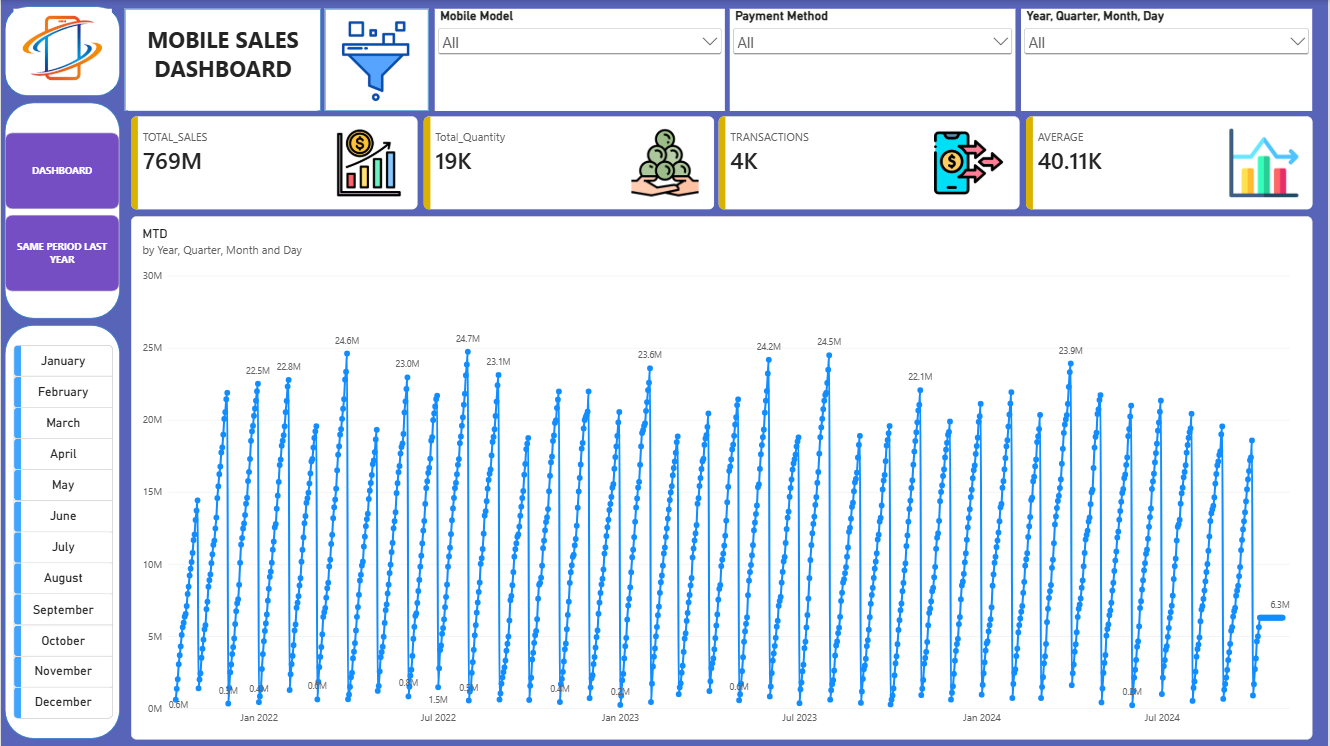

The dashboard page shown, as its layout file describes it:
{"tool":"powerbi","page":{"name":"MTD","canvas":[1920,1080],"ordinal":1},"visuals":[{"type":"shape","box":[6.2,8.2,166.7,129.7],"z":0},{"type":"image","box":[18.5,12.3,142,113.2],"z":1000},{"type":"shape","box":[6.2,148.2,166.7,312.9],"z":2000},{"type":"shape","box":[6.2,471.4,166.7,599],"z":3000},{"type":"advancedSlicerVisual","fields":{"Values":["CUSTOM_DATE.Date.Variation.Date Hierarchy.Month"]},"box":[18.5,500.2,144.1,543.4],"z":4000},{"type":"cardVisual","fields":{"Data":["Mobile Sales.TOTAL AMOUNT"]},"box":[187.3,168.8,415.8,135.8],"z":5000},{"type":"slicer","fields":{"Values":["Mobile Sales.Mobile Model"]},"box":[627.8,12.3,419.9,148.2],"z":6000},{"type":"slicer","fields":{"Values":["CUSTOM_DATE.Date.Variation.Date Hierarchy.Year","CUSTOM_DATE.Date.Variation.Date Hierarchy.Quarter","CUSTOM_DATE.Date.Variation.Date Hierarchy.Month","CUSTOM_DATE.Date.Variation.Date Hierarchy.Day"]},"box":[1475.8,12.3,422,148.2],"z":7000},{"type":"slicer","fields":{"Values":["Mobile Sales.Payment Method"]},"box":[1055.9,12.3,413.7,148.2],"z":8000},{"type":"shape","box":[469.3,12.3,150.3,148.2],"z":9000},{"type":"image","box":[471.4,28.8,144.1,119.4],"z":10000},{"type":"shape","box":[179.1,12.3,284,148.2],"z":11000},{"type":"textbox","box":[185.2,16.5,273.8,144.1],"z":12000},{"type":"cardVisual","fields":{"Data":["Mobile Sales.Total_Quantity"]},"box":[611.3,168.8,422,135.8],"z":13000},{"type":"cardVisual","fields":{"Data":["Mobile Sales.TRANSACTIONS"]},"box":[1039.5,168.8,436.4,135.8],"z":14000},{"type":"cardVisual","fields":{"Data":["Mobile Sales.AVERAGE"]},"box":[1484.1,168.8,415.8,135.8],"z":15000},{"type":"lineChart","fields":{"Category":["CUSTOM_DATE.Date.Variation.Date Hierarchy.Year","CUSTOM_DATE.Date.Variation.Date Hierarchy.Quarter","CUSTOM_DATE.Date.Variation.Date Hierarchy.Month","CUSTOM_DATE.Date.Variation.Date Hierarchy.Day"],"Y":["Mobile Sales.MTD"]},"box":[187.3,312.9,1710.5,757.5],"z":16000},{"type":"pageNavigator","box":[6.2,191.4,166.7,230.5],"z":16001}]}

Visuals, with their boxes in screenshot pixels (x1, y1, x2, y2), scaled from the page's 1920x1080 canvas onto the 1330x746 screenshot:
shape: {"left": 4, "top": 6, "right": 120, "bottom": 95}
image: {"left": 13, "top": 8, "right": 111, "bottom": 87}
shape: {"left": 4, "top": 102, "right": 120, "bottom": 319}
shape: {"left": 4, "top": 326, "right": 120, "bottom": 739}
advancedSlicerVisual - CUSTOM_DATE.Date.Variation.Date Hierarchy.Month: {"left": 13, "top": 346, "right": 113, "bottom": 721}
cardVisual - Mobile Sales.TOTAL AMOUNT: {"left": 130, "top": 117, "right": 418, "bottom": 210}
slicer - Mobile Sales.Mobile Model: {"left": 435, "top": 8, "right": 726, "bottom": 111}
slicer - CUSTOM_DATE.Date.Variation.Date Hierarchy.Year x CUSTOM_DATE.Date.Variation.Date Hierarchy.Quarter: {"left": 1022, "top": 8, "right": 1315, "bottom": 111}
slicer - Mobile Sales.Payment Method: {"left": 731, "top": 8, "right": 1018, "bottom": 111}
shape: {"left": 325, "top": 8, "right": 429, "bottom": 111}
image: {"left": 327, "top": 20, "right": 426, "bottom": 102}
shape: {"left": 124, "top": 8, "right": 321, "bottom": 111}
textbox: {"left": 128, "top": 11, "right": 318, "bottom": 111}
cardVisual - Mobile Sales.Total_Quantity: {"left": 423, "top": 117, "right": 716, "bottom": 210}
cardVisual - Mobile Sales.TRANSACTIONS: {"left": 720, "top": 117, "right": 1022, "bottom": 210}
cardVisual - Mobile Sales.AVERAGE: {"left": 1028, "top": 117, "right": 1316, "bottom": 210}
lineChart - CUSTOM_DATE.Date.Variation.Date Hierarchy.Year x CUSTOM_DATE.Date.Variation.Date Hierarchy.Quarter: {"left": 130, "top": 216, "right": 1315, "bottom": 739}
pageNavigator: {"left": 4, "top": 132, "right": 120, "bottom": 291}
